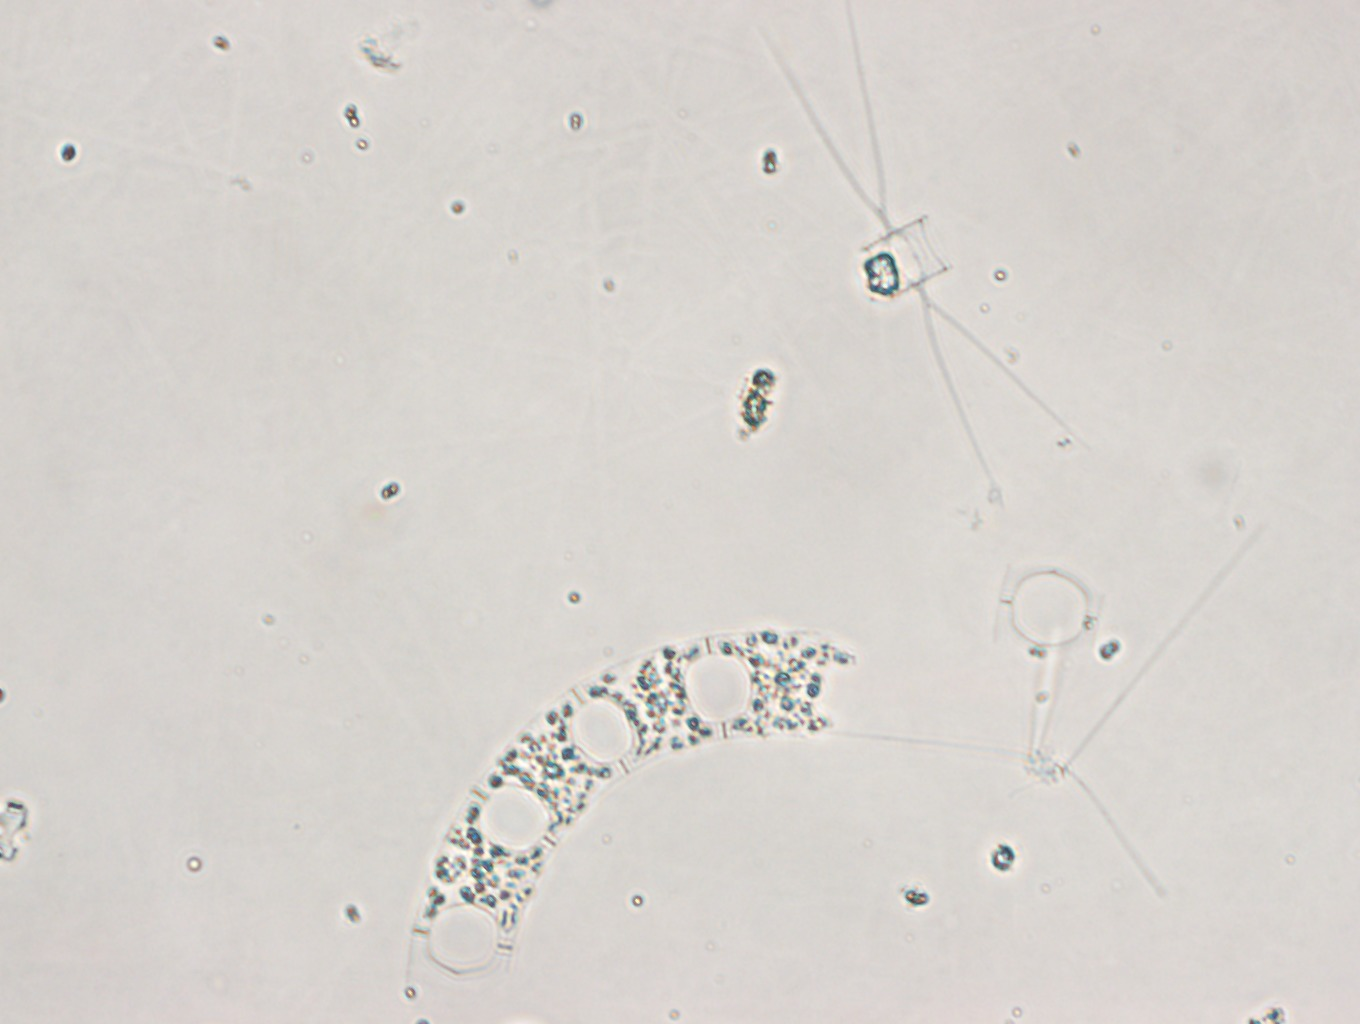chaetoceros: (770, 1, 1073, 480)
eucampia: (405, 620, 845, 979)
